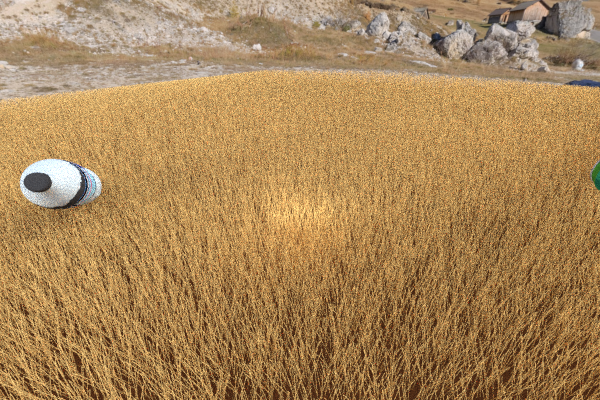Plastic Bottle: (19, 158, 101, 209), (589, 150, 600, 237)
